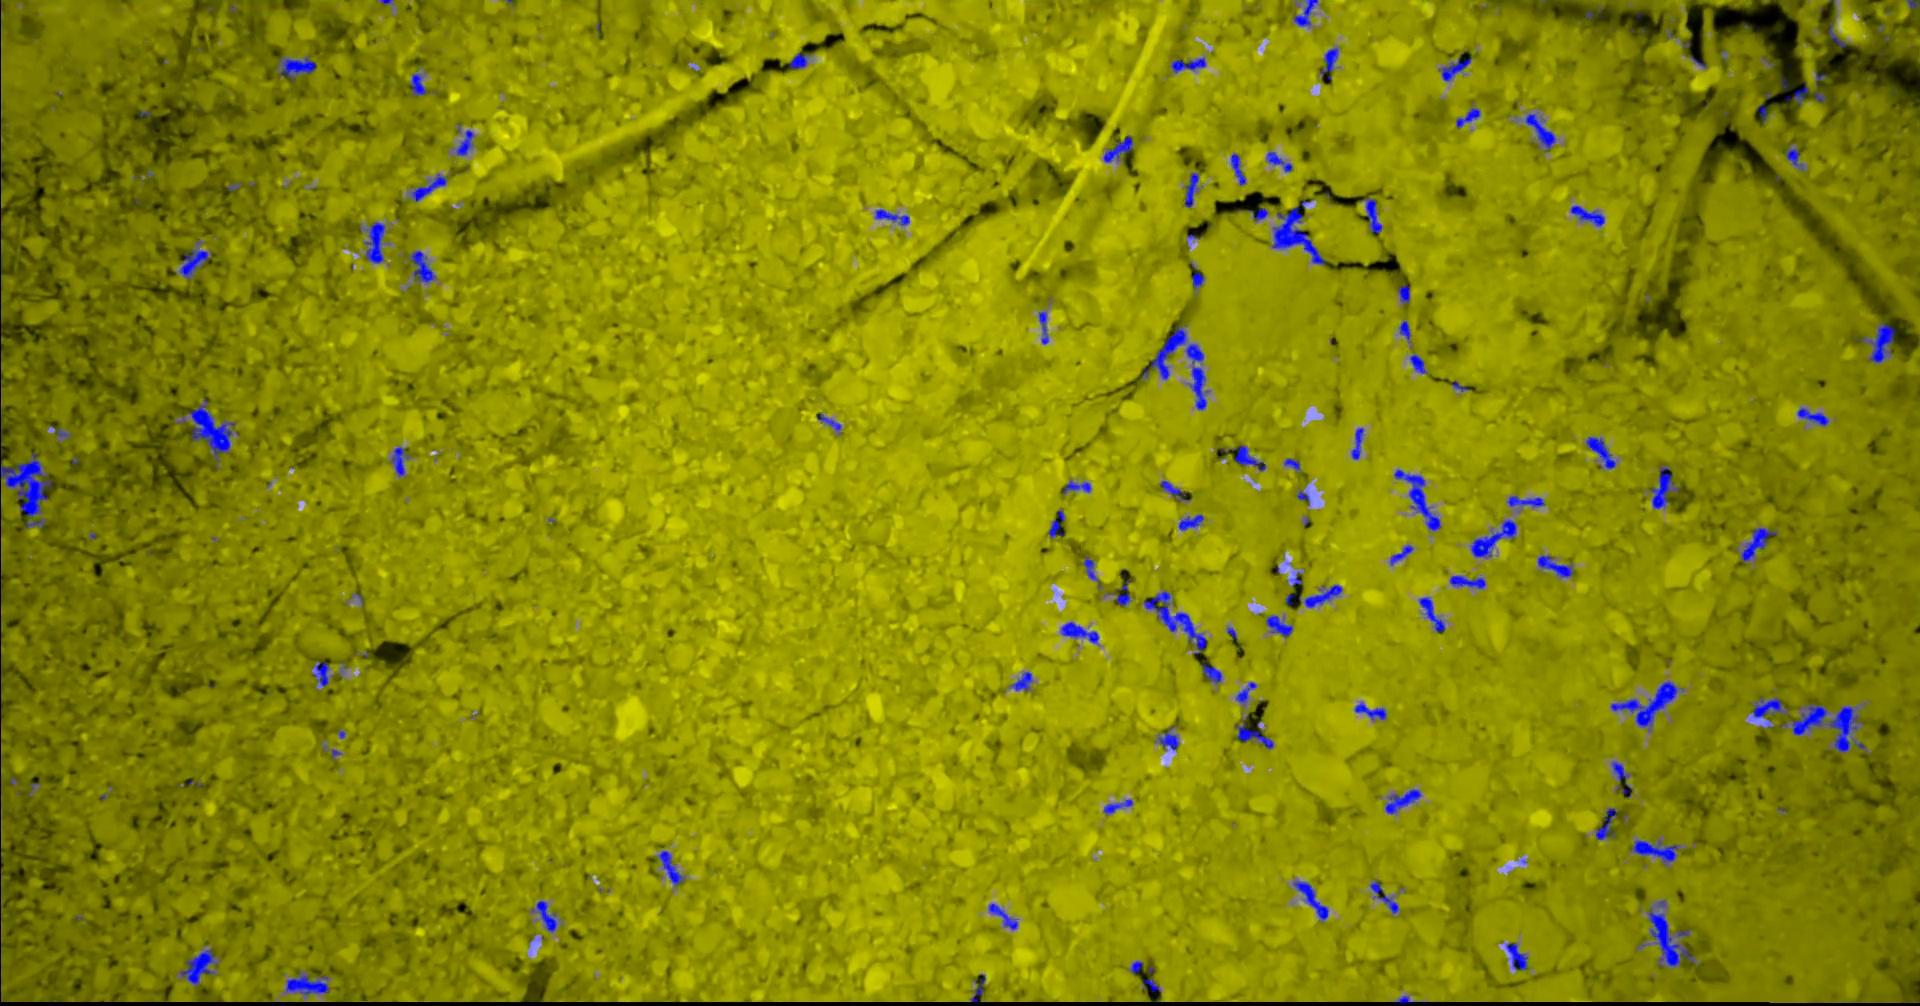ant: (1145, 589, 1208, 654), (1611, 680, 1686, 727), (1396, 469, 1443, 530), (1470, 520, 1517, 558), (1862, 323, 1897, 362), (182, 948, 218, 984), (1295, 880, 1330, 920), (1742, 527, 1779, 561), (1630, 840, 1680, 864), (1652, 466, 1680, 508), (177, 248, 213, 279), (1526, 113, 1557, 151), (1236, 719, 1275, 748), (1223, 445, 1267, 470), (287, 970, 331, 996), (361, 221, 387, 263), (411, 173, 450, 201), (1299, 584, 1343, 607), (1420, 596, 1446, 633), (279, 56, 317, 81), (1587, 436, 1617, 469), (659, 850, 686, 885), (1385, 788, 1422, 813), (1371, 880, 1399, 913), (409, 250, 437, 282), (1062, 621, 1100, 643), (1105, 135, 1134, 163), (1539, 554, 1575, 577), (1440, 57, 1473, 81), (533, 901, 559, 931), (1754, 696, 1790, 716), (989, 903, 1018, 929), (1361, 198, 1383, 232), (1572, 205, 1606, 226), (1613, 761, 1633, 796), (1597, 807, 1619, 840), (1294, 0, 1319, 25), (1798, 406, 1830, 426), (1084, 556, 1103, 588), (1507, 942, 1529, 970), (1172, 56, 1208, 72), (392, 446, 411, 476), (1267, 615, 1294, 636), (1162, 480, 1190, 500), (876, 208, 910, 225), (1322, 47, 1340, 79), (1157, 727, 1181, 749), (1355, 702, 1388, 719), (1390, 544, 1415, 565), (1830, 22, 1850, 47), (1457, 107, 1482, 127), (1269, 151, 1294, 171), (1232, 152, 1247, 185), (1186, 171, 1200, 207), (1237, 681, 1258, 704), (1787, 85, 1811, 105), (457, 130, 476, 155), (818, 412, 843, 431), (1787, 144, 1804, 170), (1011, 671, 1034, 691), (1451, 575, 1487, 588), (1105, 799, 1134, 814), (971, 973, 987, 1002), (1050, 509, 1065, 537), (1509, 495, 1545, 507), (314, 661, 330, 686), (1203, 663, 1223, 683), (1352, 427, 1365, 459), (1180, 514, 1205, 530), (411, 72, 428, 95), (1192, 263, 1206, 290), (1117, 579, 1131, 606), (1816, 72, 1829, 102), (1411, 353, 1429, 373), (790, 52, 811, 69), (1064, 480, 1092, 493), (1040, 311, 1050, 344), (1399, 320, 1413, 343), (1250, 207, 1270, 220), (1285, 457, 1302, 473), (1144, 978, 1162, 992), (1399, 285, 1411, 304), (1396, 995, 1416, 1005), (1757, 105, 1769, 122), (56, 428, 72, 439), (1131, 960, 1144, 973), (1907, 0, 1920, 8)
